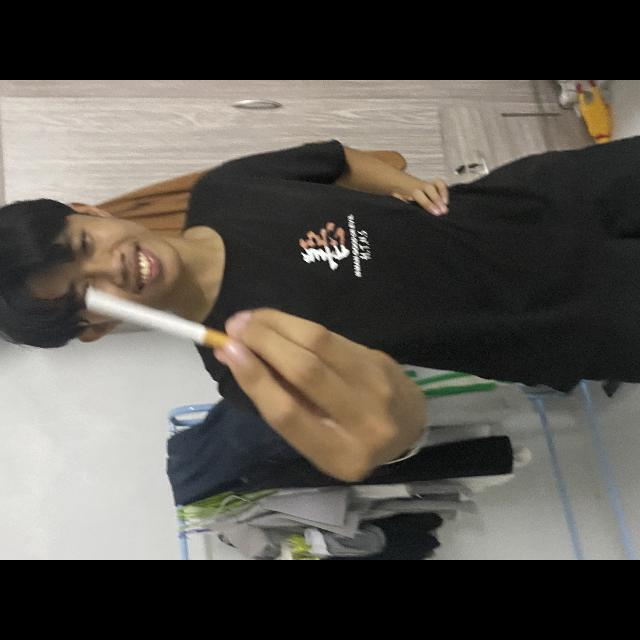rokok: (79, 292, 241, 354)
